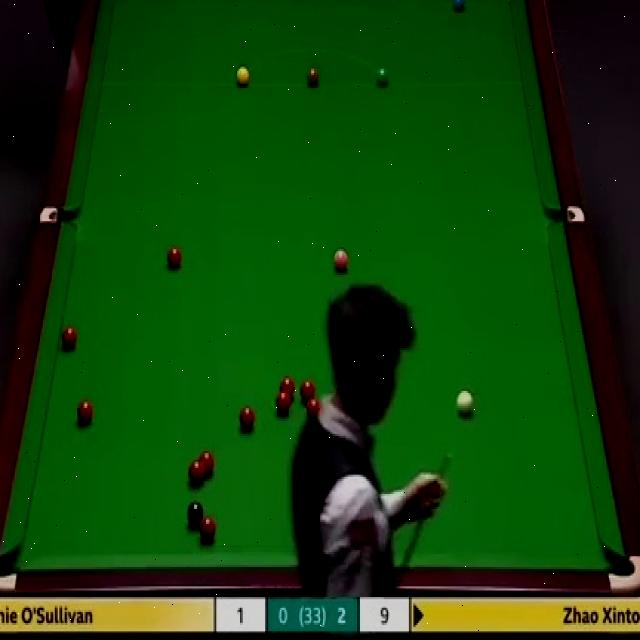black-ball: (188, 501, 205, 528)
blue-ball: (452, 0, 465, 13)
brown-ball: (306, 66, 320, 87)
green-ball: (374, 67, 388, 87)
pink-ball: (333, 251, 349, 275)
red-ball: (200, 514, 217, 545), (188, 460, 206, 488), (61, 327, 78, 355), (198, 450, 215, 476), (78, 398, 94, 425), (238, 404, 254, 430), (276, 392, 293, 416), (279, 376, 295, 398), (300, 380, 316, 402), (305, 396, 320, 418), (167, 249, 182, 268)
white-ball: (456, 390, 474, 418)
yellow-ball: (235, 66, 250, 87)
